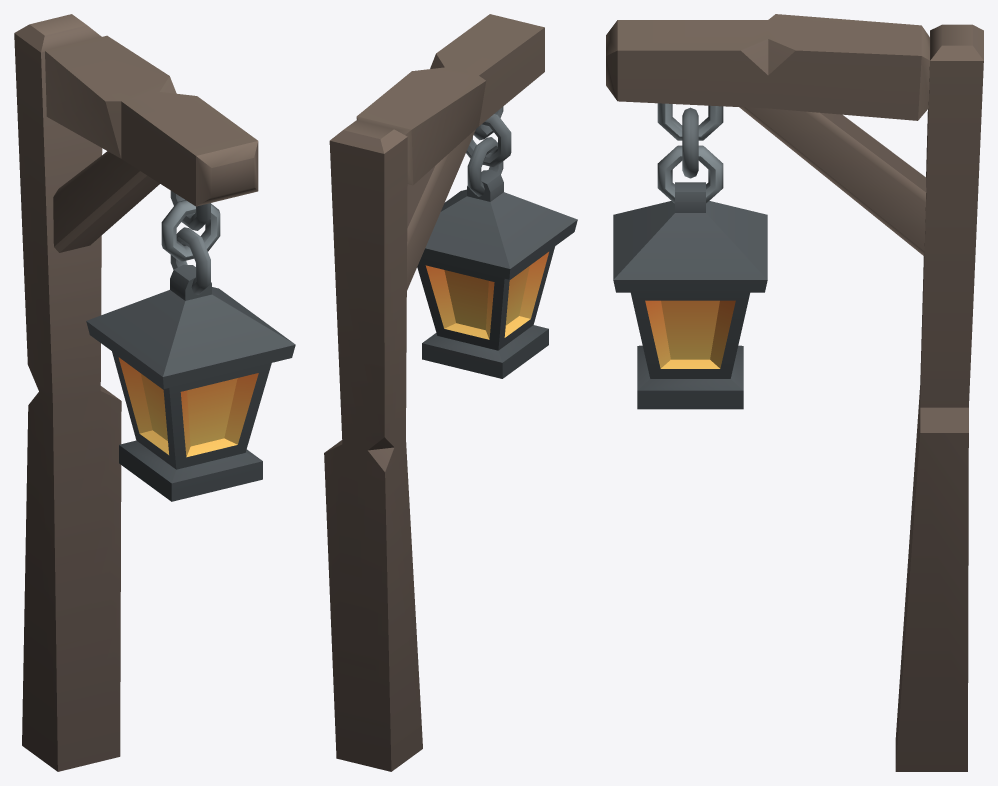
The model's file is postLantern.glb.
3 views of the same model, side by side, from view 1: azimuth 30°, elevation 25°; view 2: azimuth 150°, elevation 25°; view 3: azimuth 270°, elevation 25° (orthographic). The views are drawn at different scales.
Visible parts, largest first — view 1: post_lantern, post_lantern_lantern; view 2: post_lantern, post_lantern_lantern; view 3: post_lantern, post_lantern_lantern.
Boxes of the visible parts, left/top/right/bottom form: post_lantern: left=14, top=14, right=258, bottom=771; post_lantern_lantern: left=86, top=191, right=295, bottom=501; post_lantern: left=324, top=14, right=544, bottom=771; post_lantern_lantern: left=417, top=106, right=577, bottom=378; post_lantern: left=606, top=14, right=983, bottom=771; post_lantern_lantern: left=613, top=103, right=767, bottom=409.
Bounding box in the file's own units: 0.64 × 3.3 × 1.57.
Materials: 1 (1 with a texture image).
